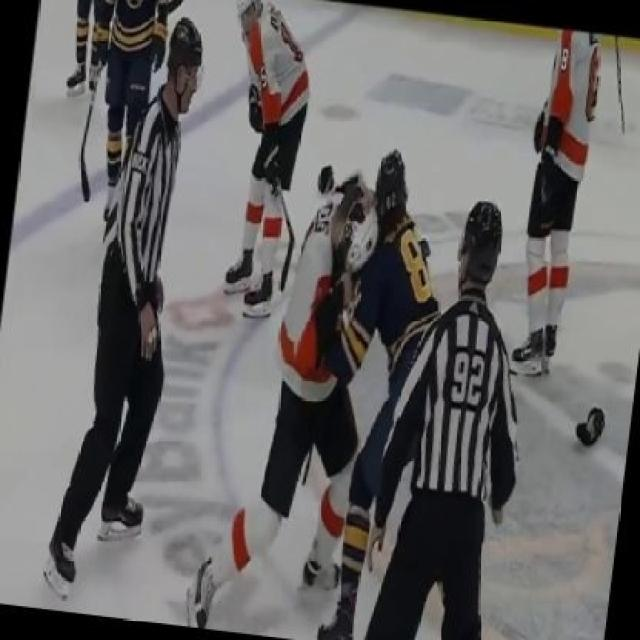fight: (192, 146, 446, 638)
non-fight: (42, 16, 202, 589), (338, 203, 514, 640), (511, 28, 601, 370), (222, 0, 308, 305)
